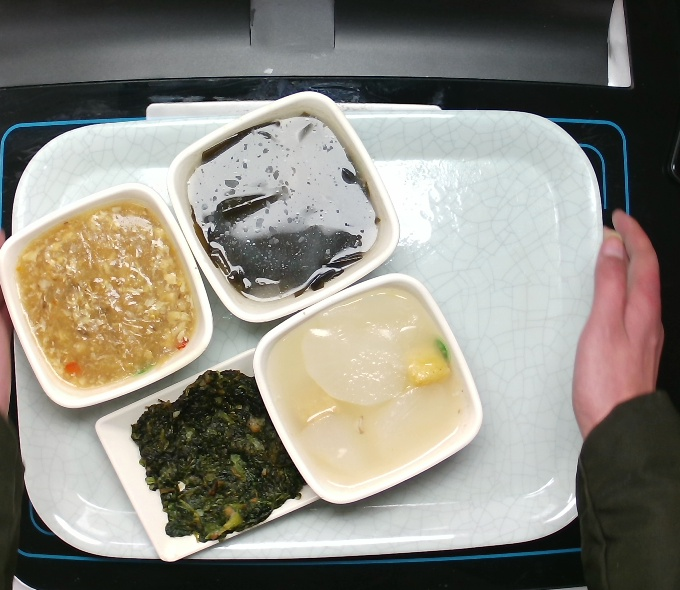wcq-LuoBoYouPaoTang: (264, 288, 466, 487)
wcq-QinCaiBing: (127, 368, 310, 543)
wcq-SuanLaGeng: (13, 202, 198, 389)
